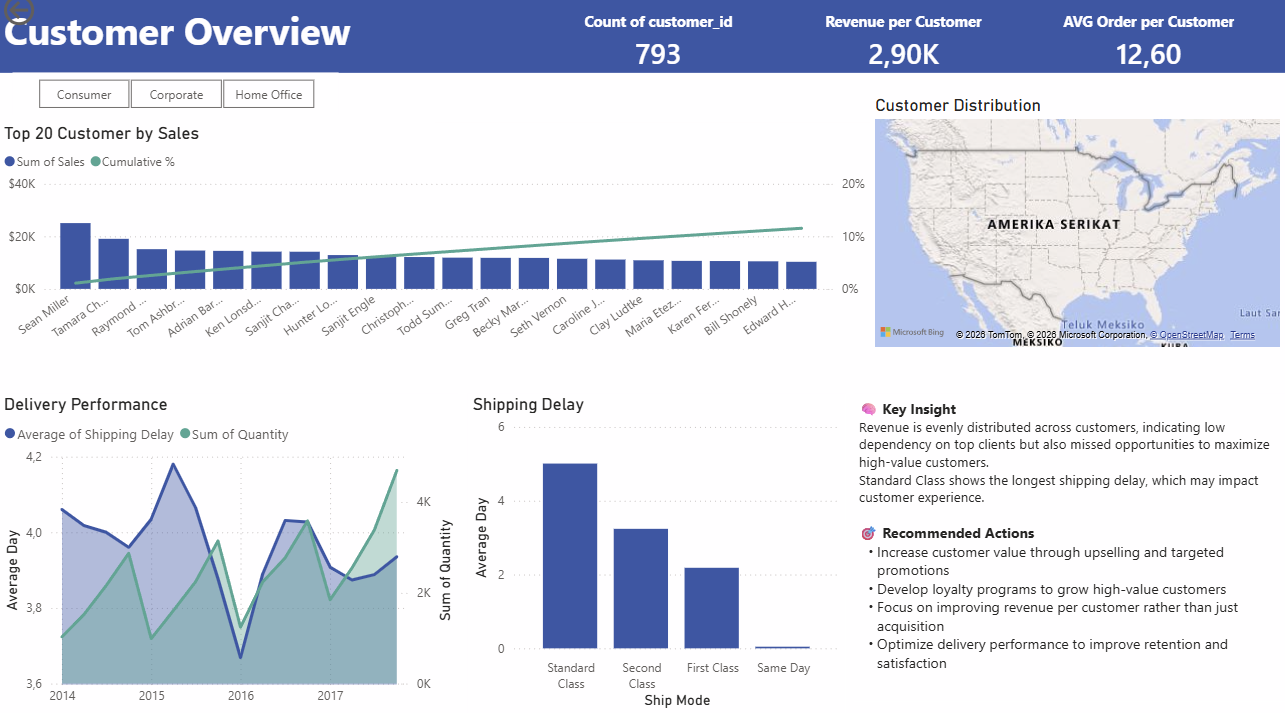

Layout of this report page (visuals, bound fields, positions):
{"tool":"powerbi","page":{"name":"Customer Details","canvas":[1280,720],"ordinal":1},"visuals":[{"type":"shape","box":[0,10,1280,72.5],"z":0},{"type":"textbox","box":[0,10,521.7,72.7],"z":1000},{"type":"cardVisual","fields":{"Data":["CountNonNull(dim_customer.customer_id)","fact_sales.Revenue per Customer","fact_sales.AVG Order per Customer"]},"box":[521.7,10,758.3,82.7],"z":2000},{"type":"lineClusteredColumnComboChart","title":"Top 20 Customer by Sales","fields":{"Category":["dim_customer.customer_name"],"Y2":["fact_sales.Cumulative %"],"Y":["Sum(fact_sales.Sales)"]},"box":[0,131.7,867.2,227.8],"z":3000},{"type":"map","title":"Customer Distribution","fields":{"Category":["dim_location.state"],"Size":["fact_sales.Total Customer"]},"box":[867.2,104.3,413,255.2],"z":4000},{"type":"actionButton","box":[0,0,100,40],"z":5000},{"type":"areaChart","title":"Delivery Performance","fields":{"Category":["dim_date.order_date.Variasi.Hierarki Tanggal.Tahun","dim_date.order_date.Variasi.Hierarki Tanggal.Kuartal","dim_date.order_date.Variasi.Hierarki Tanggal.Bulan"],"Y":["Avg(fact_sales.Shipping Delay)"],"Y2":["Sum(fact_sales.Quantity)"]},"box":[0,402.1,456.9,318.4],"z":7000},{"type":"slicer","fields":{"Values":["dim_customer.segment"]},"box":[13.7,82.3,323.8,42.5],"z":8000},{"type":"textbox","box":[850.8,402.1,429.5,306],"z":9000},{"type":"clusteredColumnChart","title":"Shipping Delay","fields":{"Category":["fact_sales.ship_mode"],"Y":["Avg(fact_sales.Shipping Delay)"]},"box":[465.9,402.1,376,318.4],"z":10000}]}

Visuals, with their boxes in screenshot pixels (x1, y1, x2, y2), scaled from the page's 1280x720 canvas onto the 1285x713 screenshot:
shape: <bbox>0, 10, 1284, 82</bbox>
textbox: <bbox>0, 10, 524, 82</bbox>
cardVisual - CountNonNull(dim_customer.customer_id) x fact_sales.Revenue per Customer: <bbox>524, 10, 1284, 92</bbox>
"Top 20 Customer by Sales" lineClusteredColumnComboChart: <bbox>0, 130, 871, 356</bbox>
"Customer Distribution" map: <bbox>871, 103, 1284, 356</bbox>
actionButton: <bbox>0, 0, 100, 40</bbox>
"Delivery Performance" areaChart: <bbox>0, 398, 459, 712</bbox>
slicer - dim_customer.segment: <bbox>14, 81, 339, 124</bbox>
textbox: <bbox>854, 398, 1284, 701</bbox>
"Shipping Delay" clusteredColumnChart: <bbox>468, 398, 845, 712</bbox>
